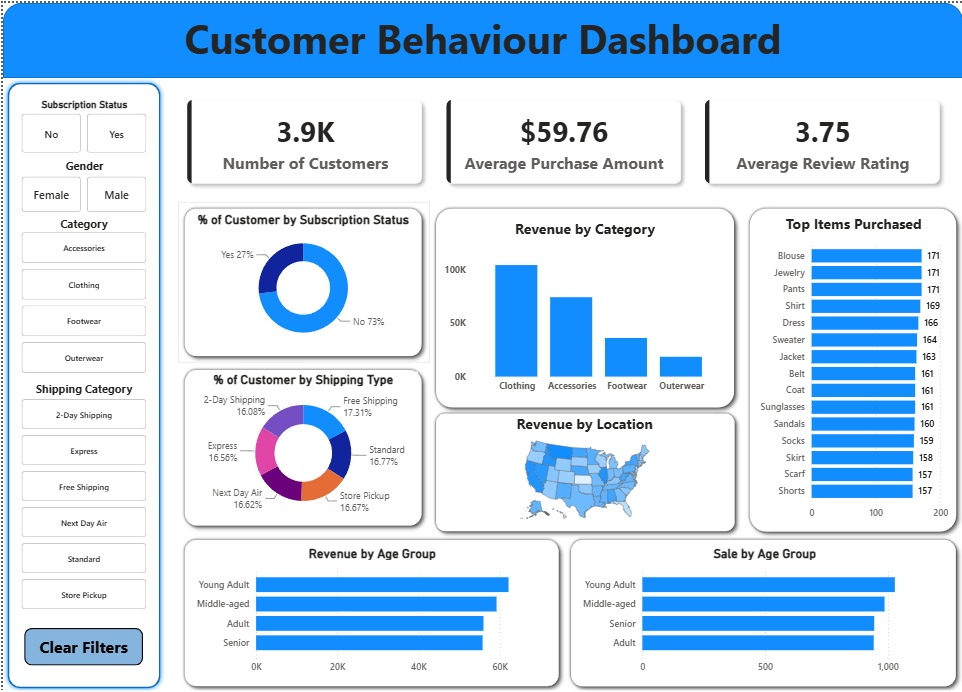

This screenshot's page, from the dashboard's own definition file:
{"tool":"powerbi","page":{"name":"Page 1","canvas":[1280,920],"ordinal":0},"visuals":[{"type":"shape","box":[567.5,537.5,416.2,175],"z":0},{"type":"cardVisual","fields":{"Data":["public customer.Number of Customers","public customer.Average Purchase Amount","public customer.Average Review Rating"]},"box":[216.9,100,1063.1,170],"z":1000},{"type":"shape","box":[0,0,1280,100],"z":2000},{"type":"textbox","box":[0,0,1280,100],"z":3000},{"type":"shape","box":[233.8,264.6,334,215],"z":4000},{"type":"donutChart","title":"% of Customer by Subscription Status","fields":{"Category":["public customer.subscription_status"],"Y":["CountNonNull(public customer.customer_id)"]},"box":[248.3,278.2,304.4,184.4],"z":5000},{"type":"shape","box":[567.8,264.4,415.6,283.3],"z":6000},{"type":"shape","box":[233.8,479.6,334,226],"z":7000},{"type":"donutChart","title":"% of Customer by Shipping Type","fields":{"Category":["public customer.shipping_type"],"Y":["CountNonNull(public customer.customer_id)"]},"box":[248.3,491.6,304.4,197.8],"z":8000},{"type":"clusteredColumnChart","title":"Revenue by Category","fields":{"Y":["Sum(public customer.purchase_amount)"],"Category":["public customer.category"]},"box":[582.7,288.2,385.5,240],"z":9000},{"type":"shape","box":[0,100,216.2,820],"z":10000},{"type":"advancedSlicerVisual","title":"Subscription Status","fields":{"Values":["public customer.subscription_status"]},"box":[20,129.1,177.3,77.3],"z":11000},{"type":"advancedSlicerVisual","title":"Gender","fields":{"Values":["public customer.gender"]},"box":[20,206.2,177.5,77.5],"z":12000},{"type":"advancedSlicerVisual","title":"Category","fields":{"Values":["public customer.category"]},"box":[20,283.8,176.2,211.2],"z":13000},{"type":"advancedSlicerVisual","title":"Shipping Category","fields":{"Values":["public customer.shipping_type"]},"box":[20,502.5,176.2,311.2],"z":14000},{"type":"shape","box":[233.3,706.7,516.7,213.3],"z":15000},{"type":"clusteredBarChart","title":"Revenue by Age Group","fields":{"Y":["Sum(public customer.purchase_amount)"],"Category":["public customer.age_group"]},"box":[251.1,723.3,481.1,180],"z":16000},{"type":"actionButton","box":[28.3,833.3,158.3,50],"z":17000},{"type":"shape","box":[748.8,706.2,531.2,213.8],"z":18000},{"type":"clusteredBarChart","title":"Sale by Age Group","fields":{"Category":["public customer.age_group"],"Y":["CountNonNull(public customer.customer_id)"]},"box":[766,724,498,180],"z":19000},{"type":"shapeMap","title":"Revenue by Location","fields":{"Category":["public customer.location"],"Value":["Sum(public customer.purchase_amount)"]},"box":[582.7,549.1,384.5,150],"z":20000},{"type":"shape","box":[986.7,264.4,293.3,448.9],"z":20500},{"type":"clusteredBarChart","title":"Top Items Purchased","fields":{"Category":["public customer.item_purchased"],"Y":["CountNonNull(public customer.customer_id)"]},"box":[1003.3,281.7,261.7,416.7],"z":21500}]}

Visuals, with their boxes in screenshot pixels (x1, y1, x2, y2), scaled from the page's 1280x920 canvas onto the 962x692 screenshot:
shape: 427 404 739 536
cardVisual - public customer.Number of Customers x public customer.Average Purchase Amount: 163 75 961 203
shape: 0 0 961 75
textbox: 0 0 961 75
shape: 176 199 427 361
"% of Customer by Subscription Status" donutChart: 187 209 415 348
shape: 427 199 739 412
shape: 176 361 427 531
"% of Customer by Shipping Type" donutChart: 187 370 415 519
"Revenue by Category" clusteredColumnChart: 438 217 728 397
shape: 0 75 162 691
"Subscription Status" advancedSlicerVisual: 15 97 148 155
"Gender" advancedSlicerVisual: 15 155 148 213
"Category" advancedSlicerVisual: 15 213 147 372
"Shipping Category" advancedSlicerVisual: 15 378 147 612
shape: 175 532 564 691
"Revenue by Age Group" clusteredBarChart: 189 544 550 679
actionButton: 21 627 140 664
shape: 563 531 961 691
"Sale by Age Group" clusteredBarChart: 576 545 950 680
"Revenue by Location" shapeMap: 438 413 727 526
shape: 742 199 961 537
"Top Items Purchased" clusteredBarChart: 754 212 951 525
